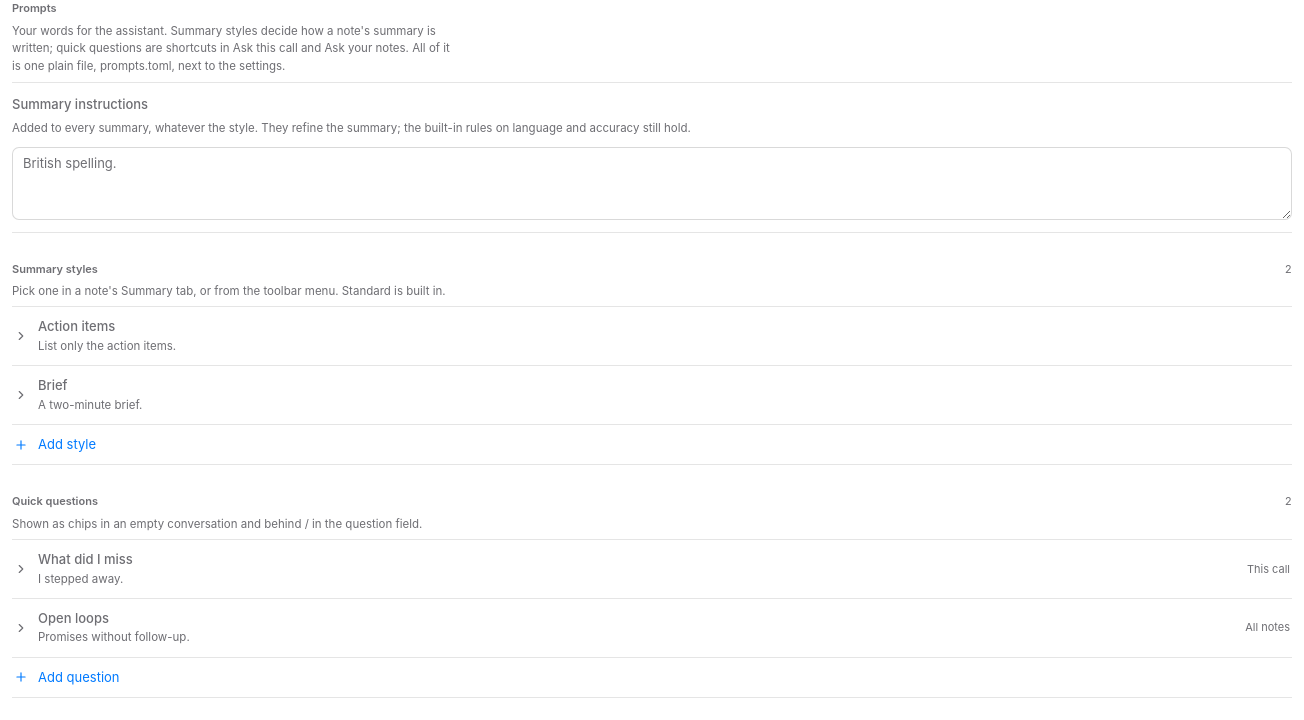
Test: PromptsSettings › lets a question use the connectors and marks the row
Click the button "What did I miss I stepped away. This call" at (85, 559), box [12,540,1292,598]
(page scrolled)
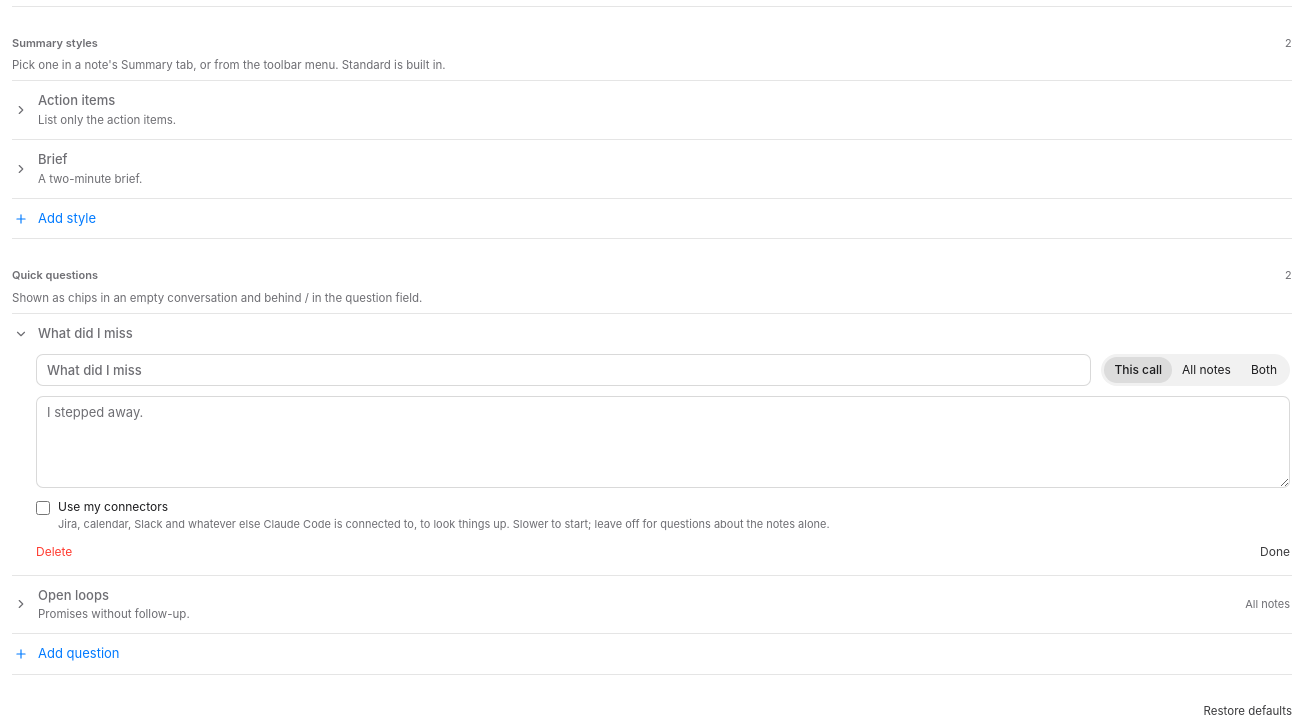
Click the checkbox labelled "Use my connectors" at (43, 508), box [36,501,50,515]
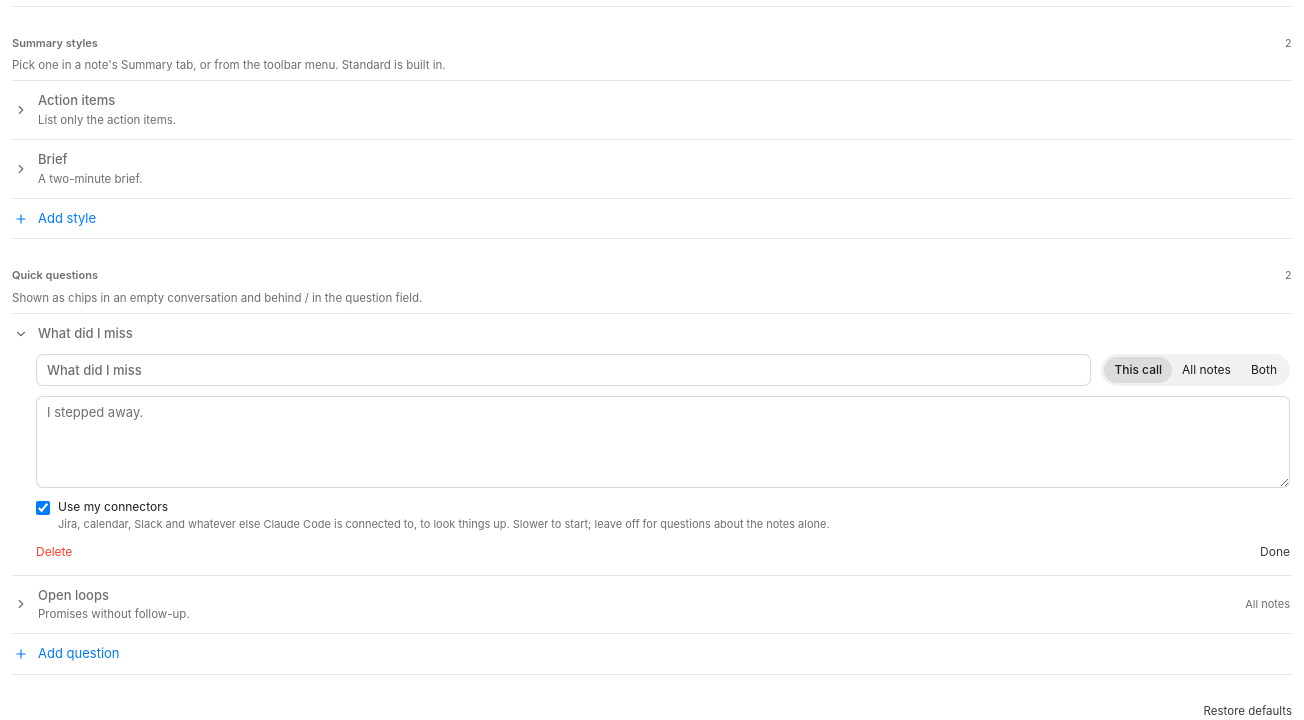
Click the button "Done" at (1275, 552), box [1260,542,1290,560]
(page scrolled)
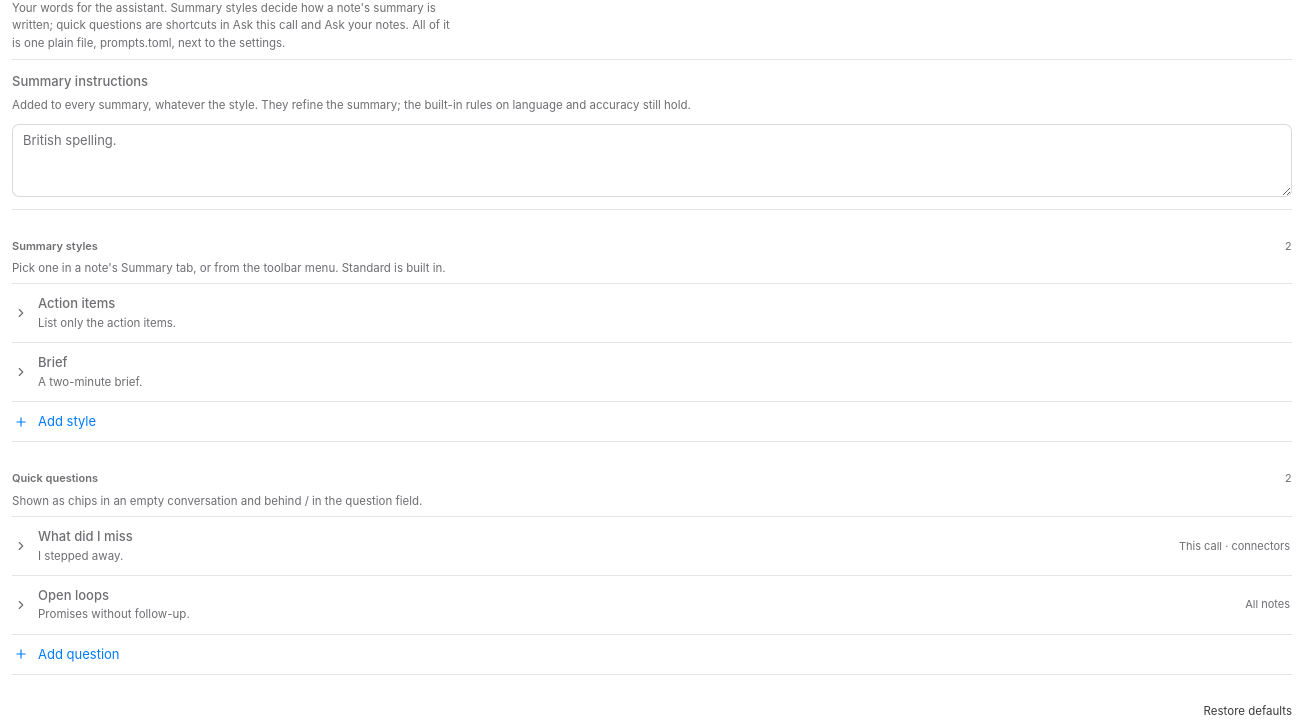
Result: the button "What did I miss I stepped away. This call · connectors" is shown at [12,517,1292,575]
